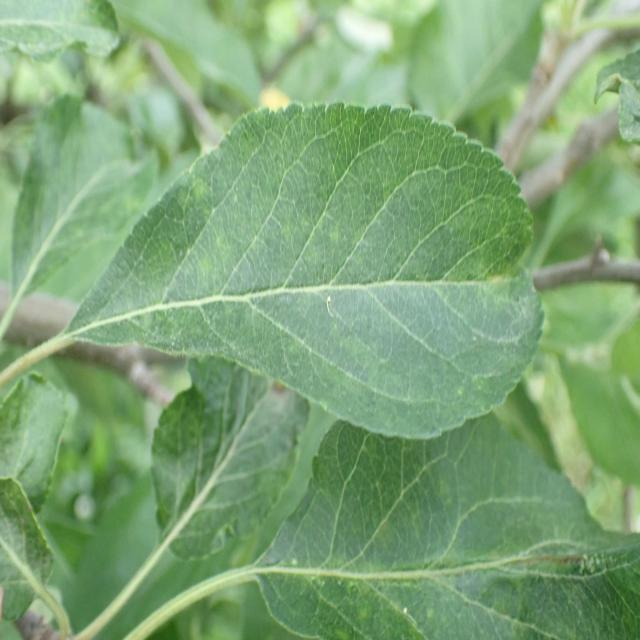scab: (123, 140, 542, 390), (266, 520, 616, 608)
